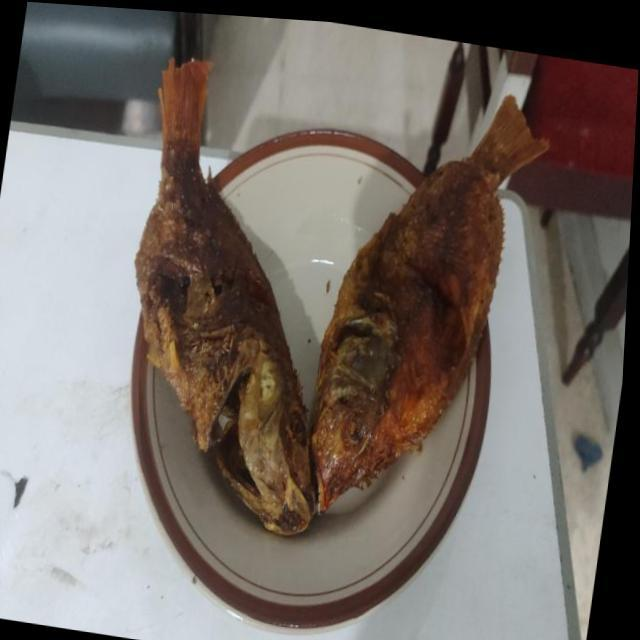ikan_mujair: (311, 96, 547, 510), (134, 60, 316, 534)
